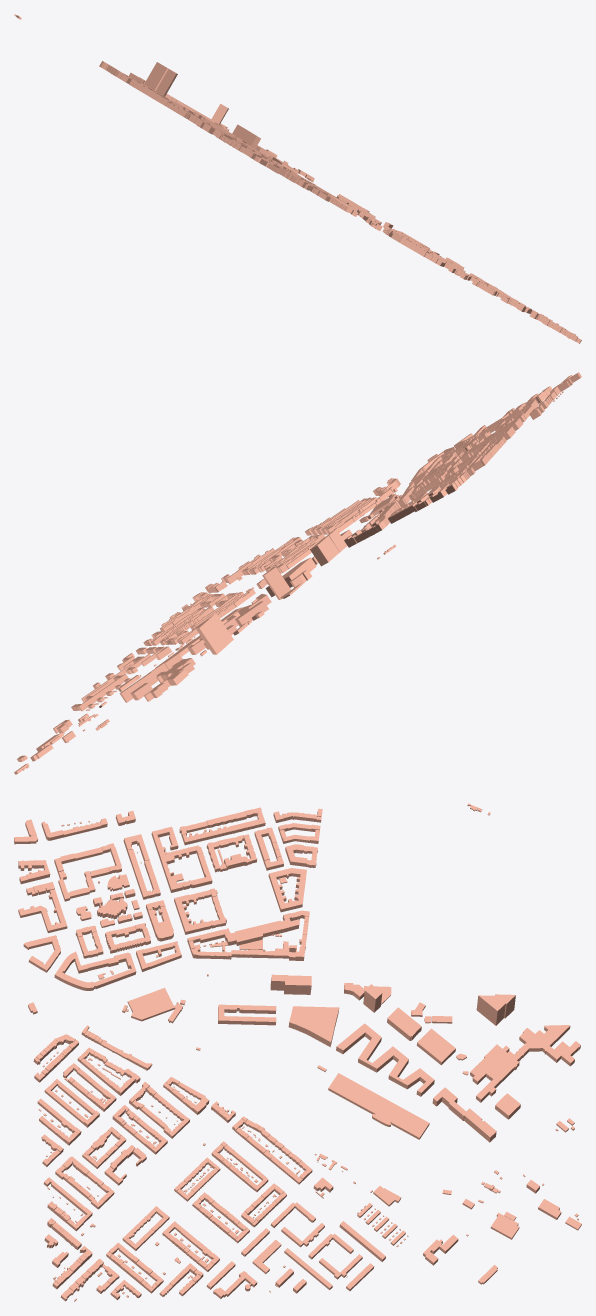
3 views of the same model, one above another, from view 1: azimuth 30°, elevation 25°; view 2: azimuth 150°, elevation 25°; view 3: azimuth 270°, elevation 25° (orthographic). The views are drawn at different scales.
Size of the model in its own units: 1043 by 763 by 1267.
